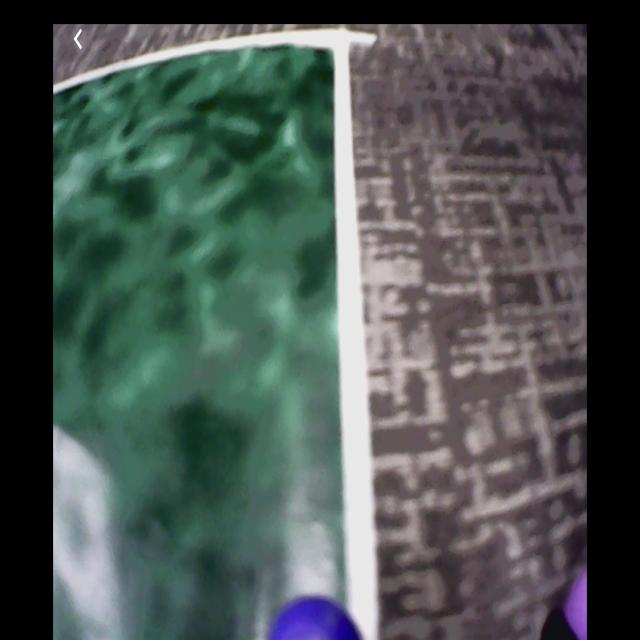ball: (271, 598, 365, 640), (567, 568, 589, 640)
